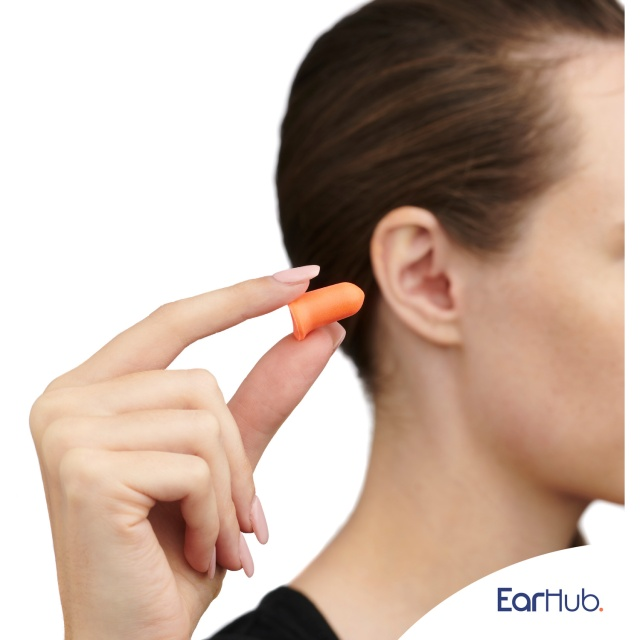Hearing_Protection: (278, 281, 366, 324)
